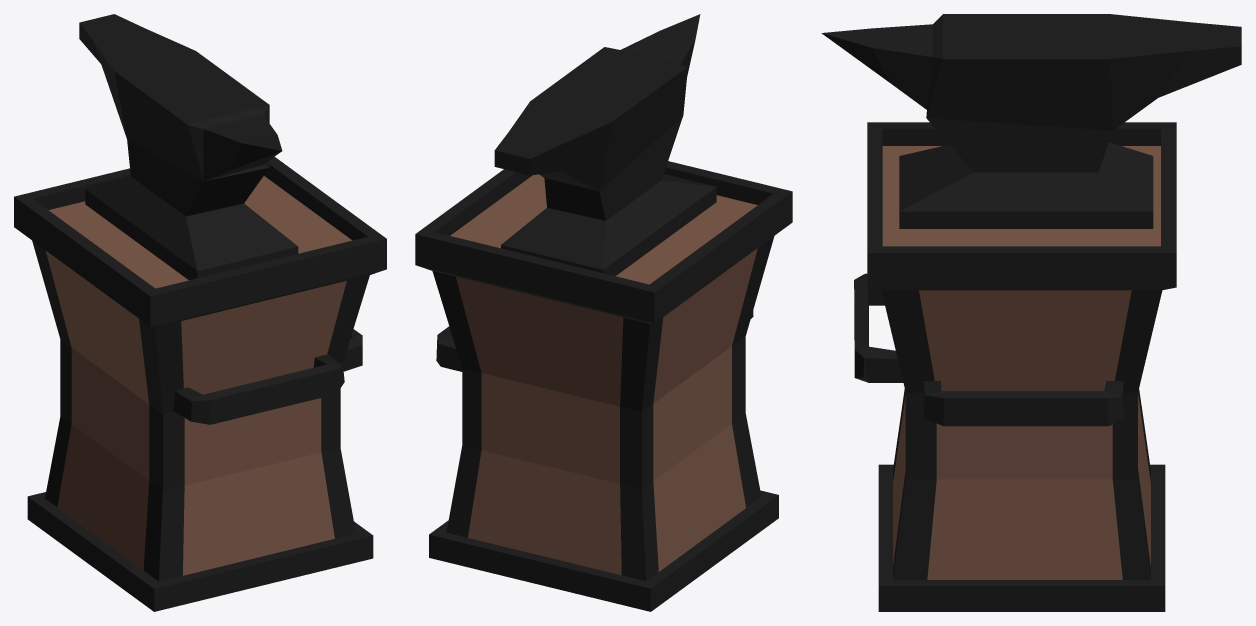
File: anvil.glb
3 renders of one model, left to right at view 1: azimuth 30°, elevation 25°; view 2: azimuth 150°, elevation 25°; view 3: azimuth 270°, elevation 25°, orthographic. The views are drawn at different scales.
Parts seen in each view (by area): view 1: group1604865080; view 2: group1604865080; view 3: group1604865080.
Part boxes in pixels (x1,y1,x2,y2): group1604865080: [14, 14, 386, 611]; group1604865080: [415, 14, 792, 611]; group1604865080: [821, 14, 1241, 611].
Bounding box in the file's own units: 0.3364 × 0.5941 × 0.44.
